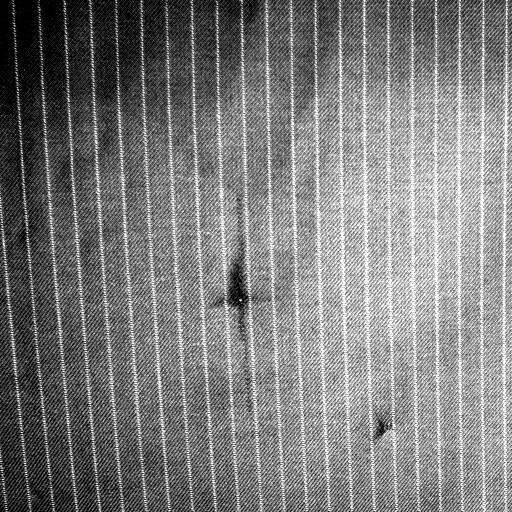fabric_hole: (218, 254, 258, 332), (363, 397, 403, 445)
